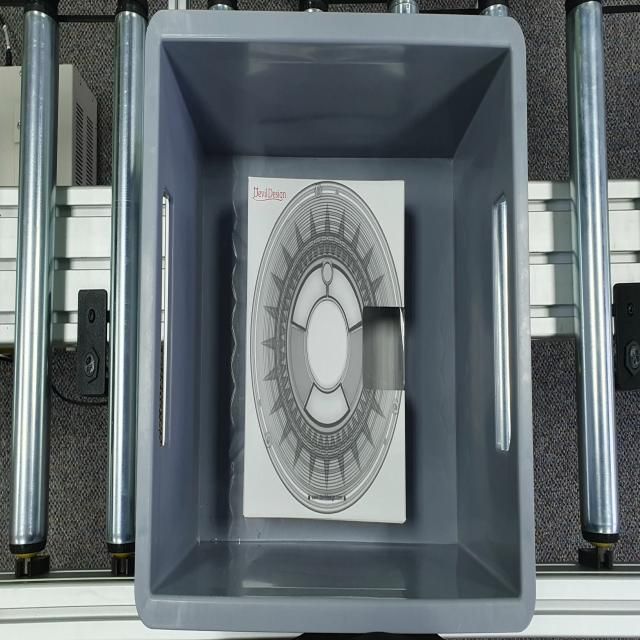box: (244, 173, 408, 528)
